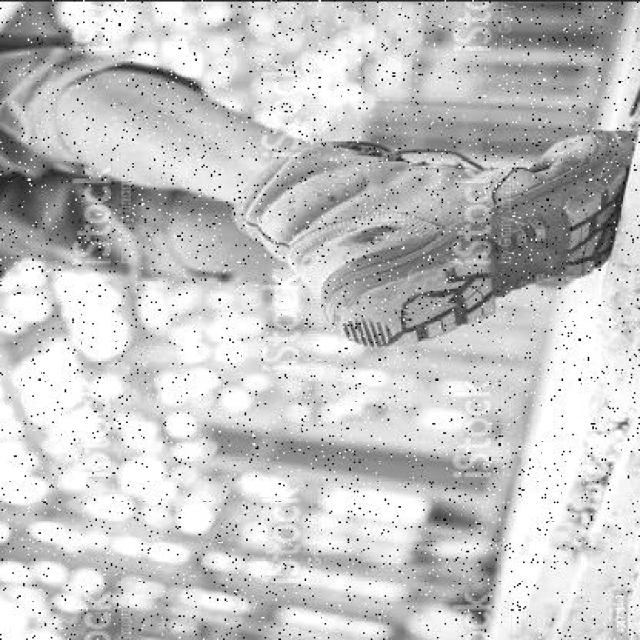shoes: (261, 131, 639, 337)
